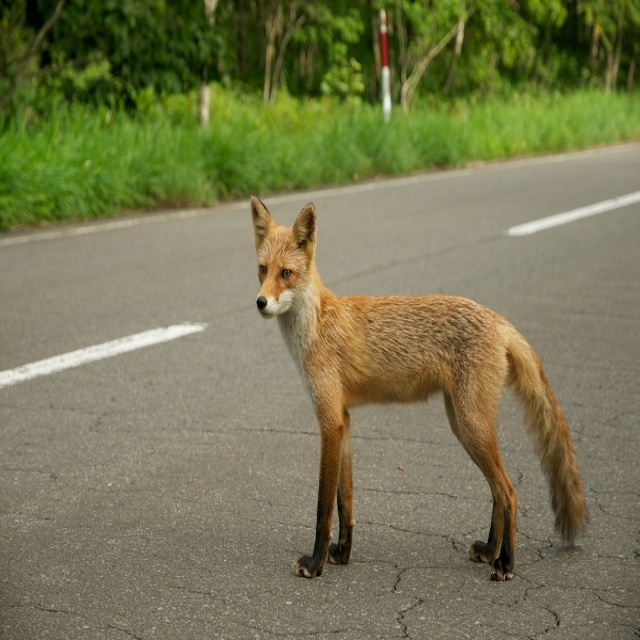Fox: (249, 195, 589, 582)
